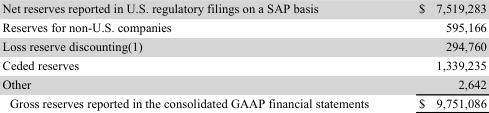table: (1, 0, 485, 109)
table column: (1, 0, 393, 109), (393, 0, 485, 109)
table row: (1, 17, 485, 36), (1, 36, 485, 55), (1, 55, 485, 74), (1, 74, 485, 93), (1, 0, 485, 17), (1, 93, 485, 109)
